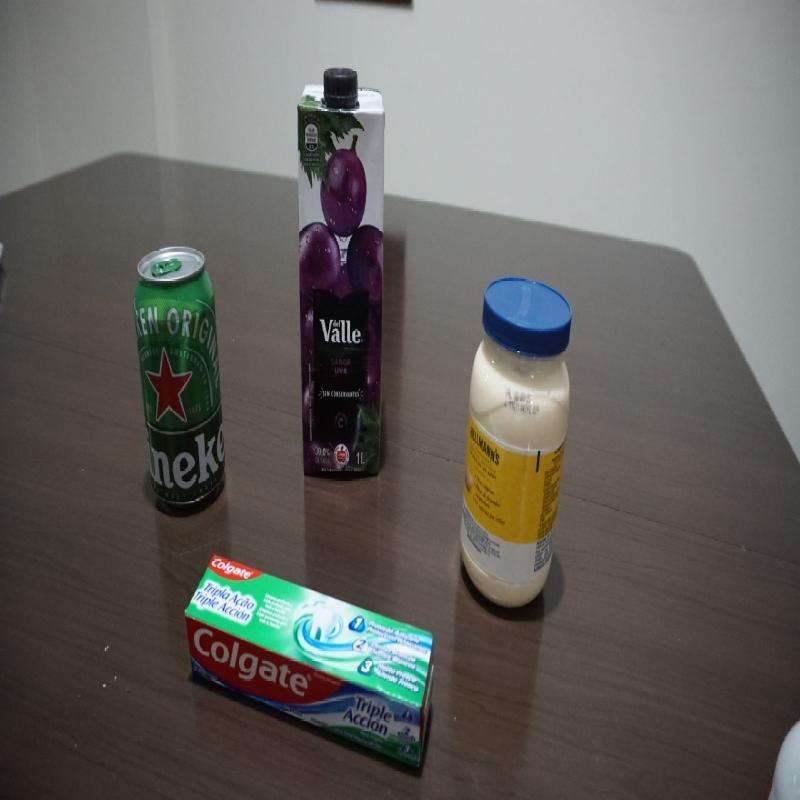Beer can: (130, 241, 227, 516)
Mayonnaise: (462, 274, 572, 610)
Toothpaste: (181, 551, 438, 766)
